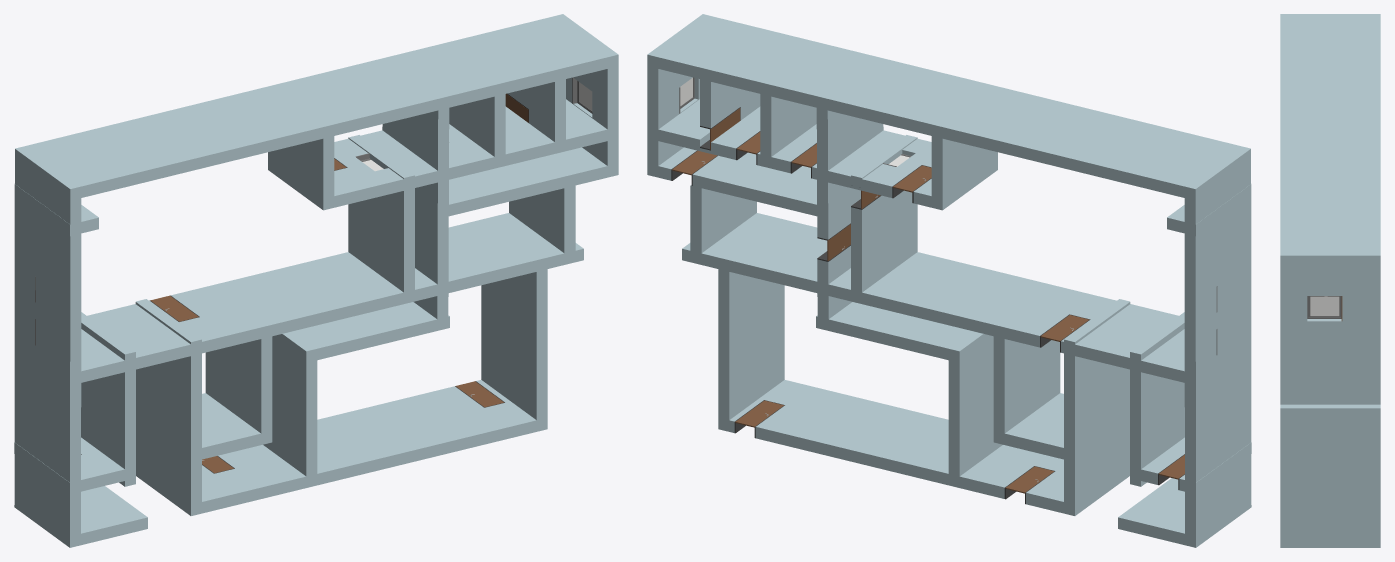
File: 22_Annex_01_F1_s0p01m.obj
3 renders of one model, left to right at view 1: azimuth 30°, elevation 25°; view 2: azimuth 150°, elevation 25°; view 3: azimuth 270°, elevation 25°, orthographic. The views are drawn at different scales.
Visible parts, largest first — view 1: product-84178296-494e-49b3-9cd7-f1c14db48ddc-body, product-84178296-494e-49b3-9cd7-f1c14db48dd1-body, product-84178296-494e-49b3-9cd7-f1c14db48db6-body, product-84178296-494e-49b3-9cd7-f1c14db48d8d-body, product-84178296-494e-49b3-9cd7-f1c14db48dcb-body, product-84178296-494e-49b3-9cd7-f1c14db48e78-body, product-84178296-494e-49b3-9cd7-f1c14db48e24-body, product-84178296-494e-49b3-9cd7-f1c14db48da1-body, product-84178296-494e-49b3-9cd7-f1c14db48ee7-body, product-84178296-494e-49b3-9cd7-f1c14db48e11-body, product-84178296-494e-49b3-9cd7-f1c14db48d86-body, product-84178296-494e-49b3-9cd7-f1c14db48e3b-body (+11 smaller); view 2: product-84178296-494e-49b3-9cd7-f1c14db48ddc-body, product-84178296-494e-49b3-9cd7-f1c14db48dd1-body, product-84178296-494e-49b3-9cd7-f1c14db48db6-body, product-84178296-494e-49b3-9cd7-f1c14db48d8d-body, product-84178296-494e-49b3-9cd7-f1c14db48e78-body, product-84178296-494e-49b3-9cd7-f1c14db48dcb-body, product-84178296-494e-49b3-9cd7-f1c14db48e24-body, product-84178296-494e-49b3-9cd7-f1c14db48ee7-body, product-84178296-494e-49b3-9cd7-f1c14db48da1-body, product-84178296-494e-49b3-9cd7-f1c14db48e11-body, product-84178296-494e-49b3-9cd7-f1c14db48e3b-body, product-84178296-494e-49b3-9cd7-f1c14db48e4c-body (+14 smaller); view 3: product-84178296-494e-49b3-9cd7-f1c14db48ddc-body, product-84178296-494e-49b3-9cd7-f1c14db48e24-body, product-84178296-494e-49b3-9cd7-f1c14db48d93-body, product-84178296-494e-49b3-9cd7-f1c14db48ef8-body, product-84178296-494e-49b3-9cd7-f1c14db48dd1-body, product-84178296-494e-49b3-9cd7-f1c14db48d8d-body, product-84178296-494e-49b3-9cd7-f1c14db48f0f-body.
Part boxes in pixels (box(x1,y1,x2,y2)): product-84178296-494e-49b3-9cd7-f1c14db48ddc-body: box(15, 14, 618, 200); product-84178296-494e-49b3-9cd7-f1c14db48dd1-body: box(81, 213, 583, 382); product-84178296-494e-49b3-9cd7-f1c14db48db6-body: box(14, 160, 81, 547); product-84178296-494e-49b3-9cd7-f1c14db48d8d-body: box(136, 380, 547, 515); product-84178296-494e-49b3-9cd7-f1c14db48dcb-body: box(268, 99, 607, 210); product-84178296-494e-49b3-9cd7-f1c14db48e78-body: box(135, 299, 201, 504); product-84178296-494e-49b3-9cd7-f1c14db48e24-body: box(481, 269, 547, 420); product-84178296-494e-49b3-9cd7-f1c14db48da1-body: box(382, 108, 449, 319); product-84178296-494e-49b3-9cd7-f1c14db48ee7-body: box(348, 135, 414, 292); product-84178296-494e-49b3-9cd7-f1c14db48e11-body: box(81, 312, 135, 486); product-84178296-494e-49b3-9cd7-f1c14db48d86-body: box(448, 147, 607, 216); product-84178296-494e-49b3-9cd7-f1c14db48e3b-body: box(263, 338, 317, 476); product-84178296-494e-49b3-9cd7-f1c14db48ddc-body: box(647, 14, 1250, 200); product-84178296-494e-49b3-9cd7-f1c14db48dd1-body: box(682, 213, 1184, 382); product-84178296-494e-49b3-9cd7-f1c14db48db6-body: box(1184, 160, 1251, 547); product-84178296-494e-49b3-9cd7-f1c14db48d8d-body: box(718, 380, 1129, 515); product-84178296-494e-49b3-9cd7-f1c14db48e78-body: box(1064, 299, 1130, 504); product-84178296-494e-49b3-9cd7-f1c14db48dcb-body: box(658, 99, 997, 210); product-84178296-494e-49b3-9cd7-f1c14db48e24-body: box(718, 269, 784, 420); product-84178296-494e-49b3-9cd7-f1c14db48ee7-body: box(851, 135, 917, 292); product-84178296-494e-49b3-9cd7-f1c14db48da1-body: box(816, 108, 883, 319); product-84178296-494e-49b3-9cd7-f1c14db48e11-body: box(1130, 312, 1184, 486); product-84178296-494e-49b3-9cd7-f1c14db48e3b-body: box(948, 338, 1002, 476); product-84178296-494e-49b3-9cd7-f1c14db48e4c-body: box(816, 302, 993, 362); product-84178296-494e-49b3-9cd7-f1c14db48ddc-body: box(1280, 14, 1380, 265); product-84178296-494e-49b3-9cd7-f1c14db48e24-body: box(1280, 419, 1380, 537); product-84178296-494e-49b3-9cd7-f1c14db48d93-body: box(1280, 266, 1380, 364); product-84178296-494e-49b3-9cd7-f1c14db48ef8-body: box(1280, 364, 1380, 404); product-84178296-494e-49b3-9cd7-f1c14db48dd1-body: box(1280, 404, 1380, 418); product-84178296-494e-49b3-9cd7-f1c14db48d8d-body: box(1280, 537, 1380, 547); product-84178296-494e-49b3-9cd7-f1c14db48f0f-body: box(1307, 296, 1342, 320).
Bounding box in the file's own units: 22.85 × 14.3 × 4.
